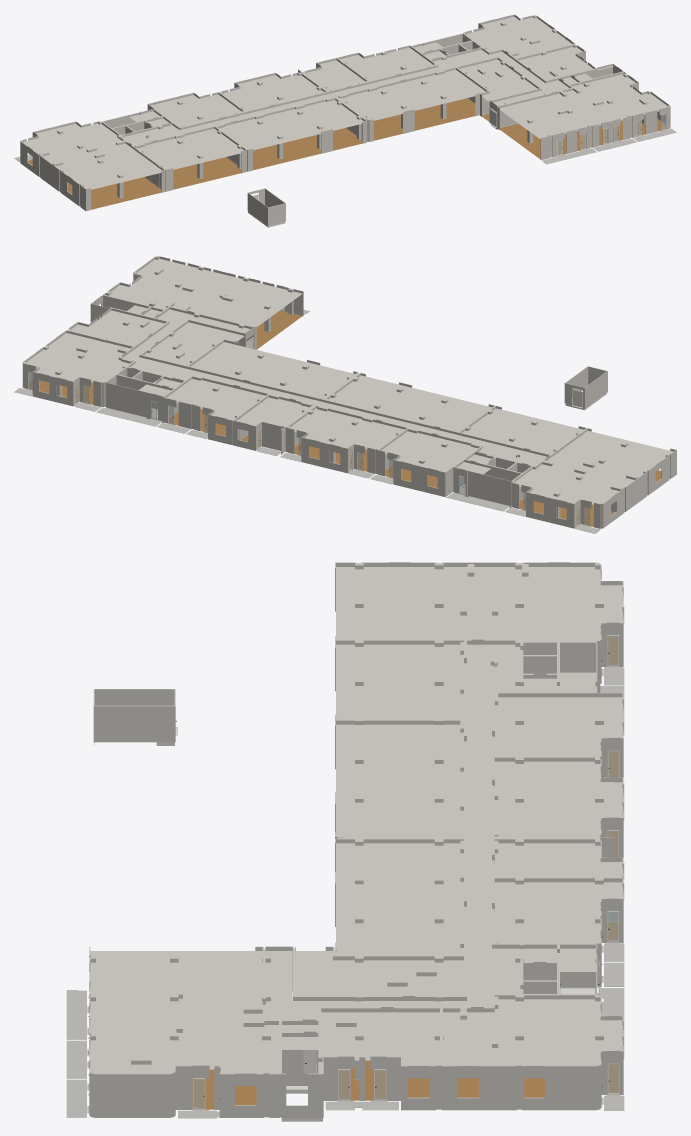
3 renders of one model, top to bottom at view 1: azimuth 30°, elevation 25°; view 2: azimuth 150°, elevation 25°; view 3: azimuth 270°, elevation 25°, orthographic. The views are drawn at different scales.
Parts seen in each view (by area): view 1: in_L01_walls__int_wall, in_L01_o7_ceiling__int_wall, in_L01_o12_ceiling__int_wall, in_L01_ceiling__int_wall, in_L01_o10_ceiling__int_wall, in_L01_o9_ceiling__int_wall, in_L01_o7_walls__int_wall, in_L01_o5_ceiling__int_wall, in_L01_o12_walls__int_wall, in_L01_o11_ceiling__int_wall, in_L01_o2_ceiling__int_wall, in_L01_o9_floor__int_parquet (+15 smaller); view 2: in_L01_walls__int_wall, in_L01_o7_ceiling__int_wall, in_L01_o12_ceiling__int_wall, in_L01_ceiling__int_wall, in_L01_o9_ceiling__int_wall, in_L01_o10_ceiling__int_wall, in_L01_o12_walls__int_wall, in_L01_o5_ceiling__int_wall, in_L01_o11_ceiling__int_wall, in_L01_o2_ceiling__int_wall, in_L01_o2_walls__int_wall, in_L01_o1_ceiling__int_wall (+15 smaller); view 3: in_L01_walls__int_wall, in_L01_o7_ceiling__int_wall, in_L01_o12_ceiling__int_wall, in_L01_ceiling__int_wall, in_L01_o10_ceiling__int_wall, in_L01_o9_ceiling__int_wall, in_L01_o5_ceiling__int_wall, in_L01_o11_ceiling__int_wall, in_L01_o7_walls__int_wall, in_L01_o2_ceiling__int_wall, in_L01_o5_walls__int_wall, in_L01_o1_ceiling__int_wall (+18 smaller).
Part boxes in pixels (left/top/right/bottom): in_L01_walls__int_wall: left=40, top=32, right=670, bottom=225; in_L01_o7_ceiling__int_wall: left=500, top=74, right=667, bottom=139; in_L01_o12_ceiling__int_wall: left=23, top=123, right=162, bottom=189; in_L01_ceiling__int_wall: left=123, top=42, right=613, bottom=145; in_L01_o10_ceiling__int_wall: left=219, top=100, right=363, bottom=150; in_L01_o9_ceiling__int_wall: left=340, top=69, right=485, bottom=120; in_L01_o7_walls__int_wall: left=497, top=72, right=670, bottom=160; in_L01_o5_ceiling__int_wall: left=466, top=16, right=572, bottom=57; in_L01_o12_walls__int_wall: left=20, top=121, right=164, bottom=211; in_L01_o11_ceiling__int_wall: left=137, top=128, right=243, bottom=169; in_L01_o2_ceiling__int_wall: left=223, top=75, right=323, bottom=111; in_L01_o9_floor__int_parquet: left=373, top=98, right=475, bottom=140; in_L01_walls__int_wall: left=22, top=273, right=669, bottom=528; in_L01_o7_ceiling__int_wall: left=109, top=258, right=302, bottom=326; in_L01_o12_ceiling__int_wall: left=515, top=431, right=673, bottom=504; in_L01_ceiling__int_wall: left=112, top=305, right=546, bottom=474; in_L01_o9_ceiling__int_wall: left=191, top=342, right=354, bottom=398; in_L01_o10_ceiling__int_wall: left=329, top=375, right=491, bottom=430; in_L01_o12_walls__int_wall: left=512, top=428, right=676, bottom=528; in_L01_o5_ceiling__int_wall: left=26, top=333, right=130, bottom=382; in_L01_o11_ceiling__int_wall: left=462, top=408, right=583, bottom=454; in_L01_o2_ceiling__int_wall: left=291, top=408, right=404, bottom=449; in_L01_o2_walls__int_wall: left=286, top=405, right=400, bottom=473; in_L01_o1_ceiling__int_wall: left=381, top=431, right=477, bottom=471; in_L01_walls__int_wall: left=90, top=563, right=623, bottom=1117; in_L01_o7_ceiling__int_wall: left=90, top=951, right=278, bottom=1073; in_L01_o12_ceiling__int_wall: left=336, top=567, right=622, bottom=641; in_L01_ceiling__int_wall: left=265, top=644, right=596, bottom=1073; in_L01_o10_ceiling__int_wall: left=336, top=724, right=463, bottom=836; in_L01_o9_ceiling__int_wall: left=336, top=843, right=463, bottom=954; in_L01_o5_ceiling__int_wall: left=443, top=999, right=622, bottom=1065; in_L01_o11_ceiling__int_wall: left=336, top=644, right=463, bottom=719; in_L01_o7_walls__int_wall: left=89, top=946, right=278, bottom=1117; in_L01_o2_ceiling__int_wall: left=494, top=761, right=622, bottom=836; in_L01_o5_walls__int_wall: left=439, top=995, right=623, bottom=1110; in_L01_o1_ceiling__int_wall: left=494, top=697, right=622, bottom=756.
Size of the model in its own units: 82.77 by 3.6 by 38.11.
